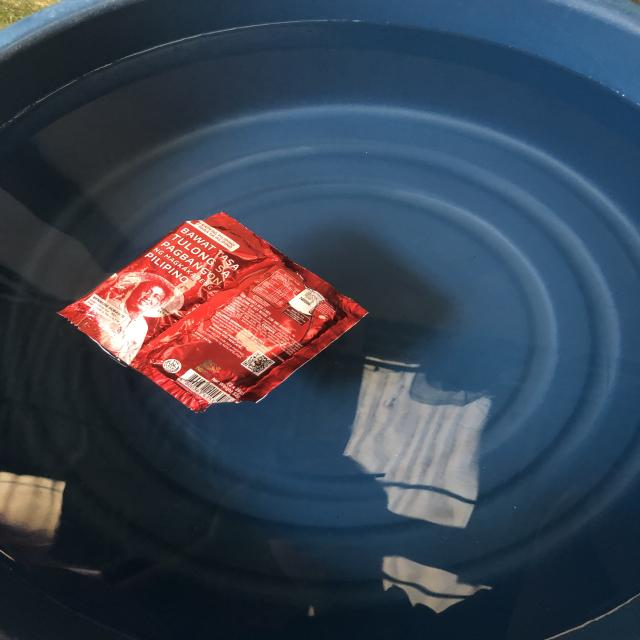Plastic Wrapper: (60, 213, 366, 411)
